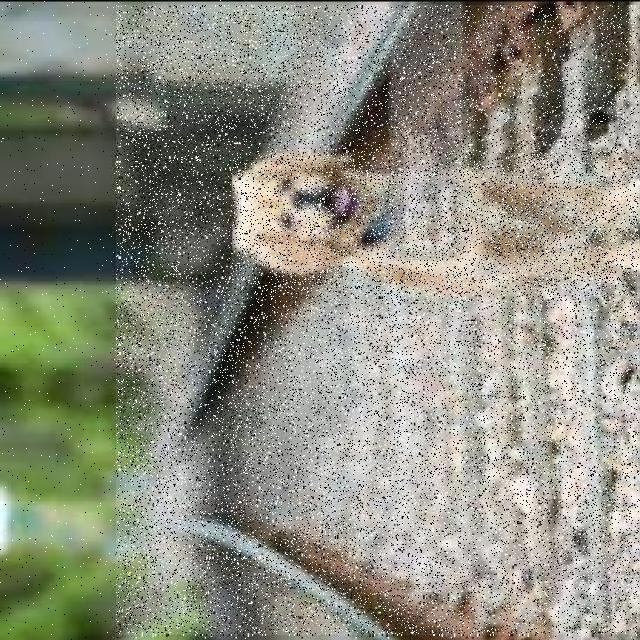rail: (117, 7, 640, 636)
